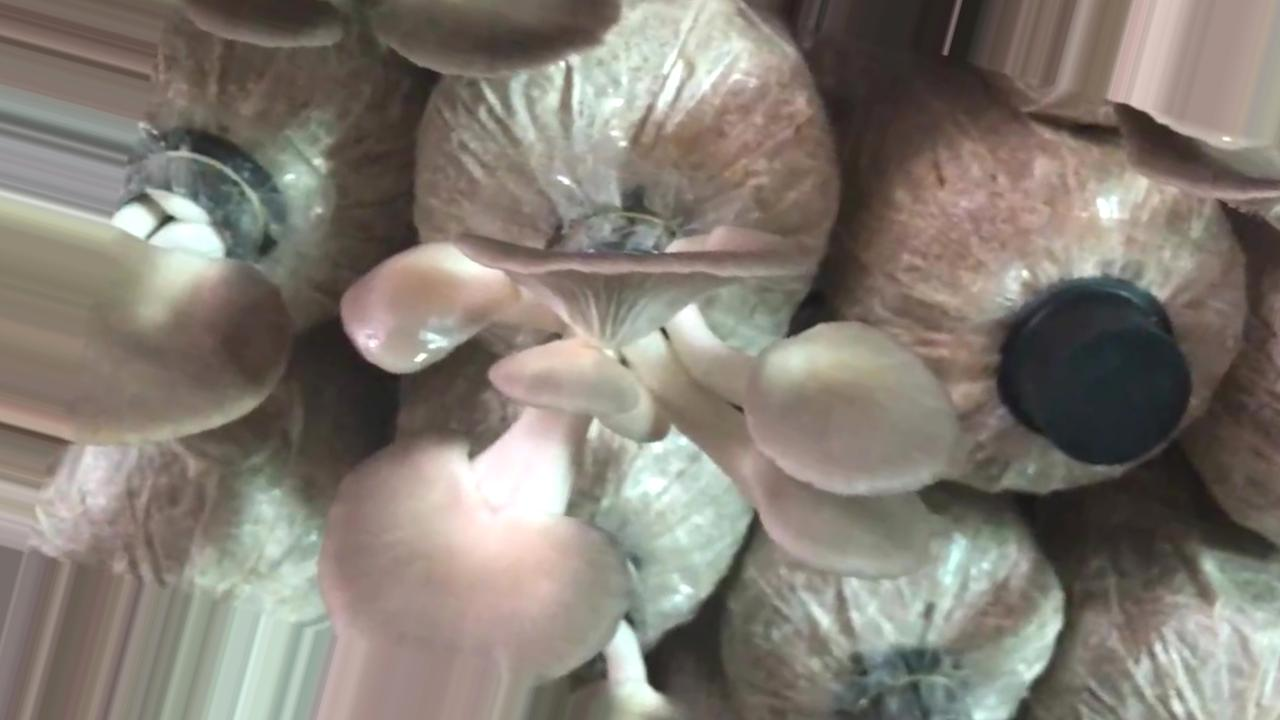nam: (318, 209, 955, 678), (1, 128, 291, 450)
